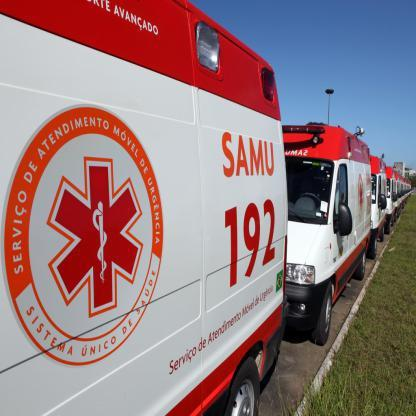Ambulance - v1 Ambulance last generate: (0, 0, 289, 415), (289, 125, 374, 345), (372, 152, 388, 242), (387, 162, 397, 230)
